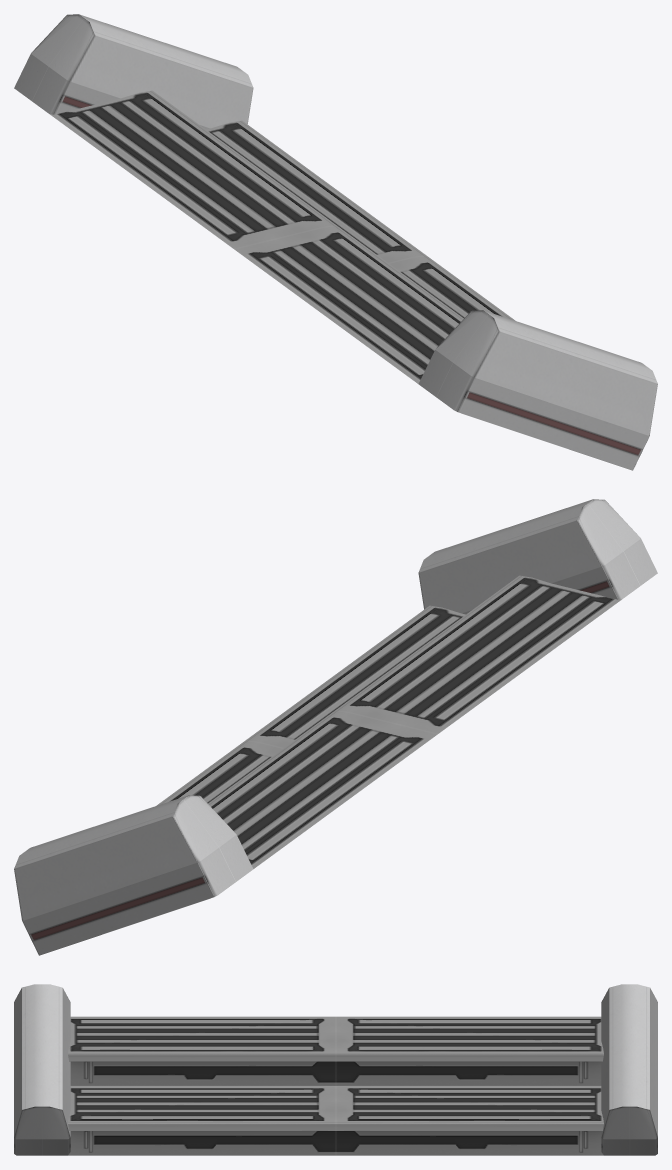
The model's file is Step.fbx.
3 views of the same model, one above another, from view 1: azimuth 30°, elevation 25°; view 2: azimuth 150°, elevation 25°; view 3: azimuth 270°, elevation 25° (orthographic). The views are drawn at different scales.
Parts seen in each view (by area): view 1: polySurface30; view 2: polySurface30; view 3: polySurface30.
Boxes of the visible parts, bbox=[...] form: polySurface30: bbox=[14, 14, 657, 470]; polySurface30: bbox=[14, 499, 657, 955]; polySurface30: bbox=[14, 984, 657, 1155].
Size of the model in its own units: 2.18 by 1.72 by 7.93.
1 material, 1 textured.
